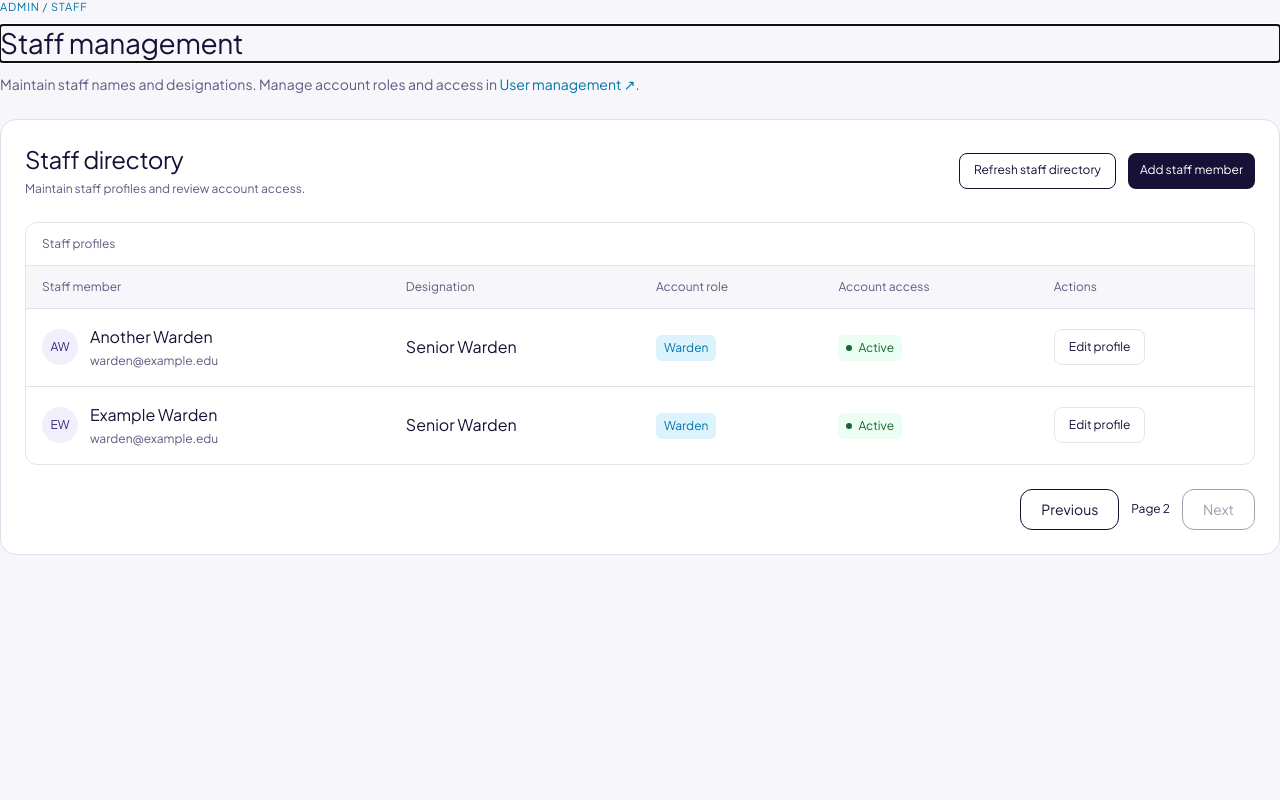
Test case: edits the selected directory row and keeps pagination and other rows
Step 1. Click the button "Edit profile" in the row of "Example Warden" → (1100, 425), box [1054, 407, 1145, 443]
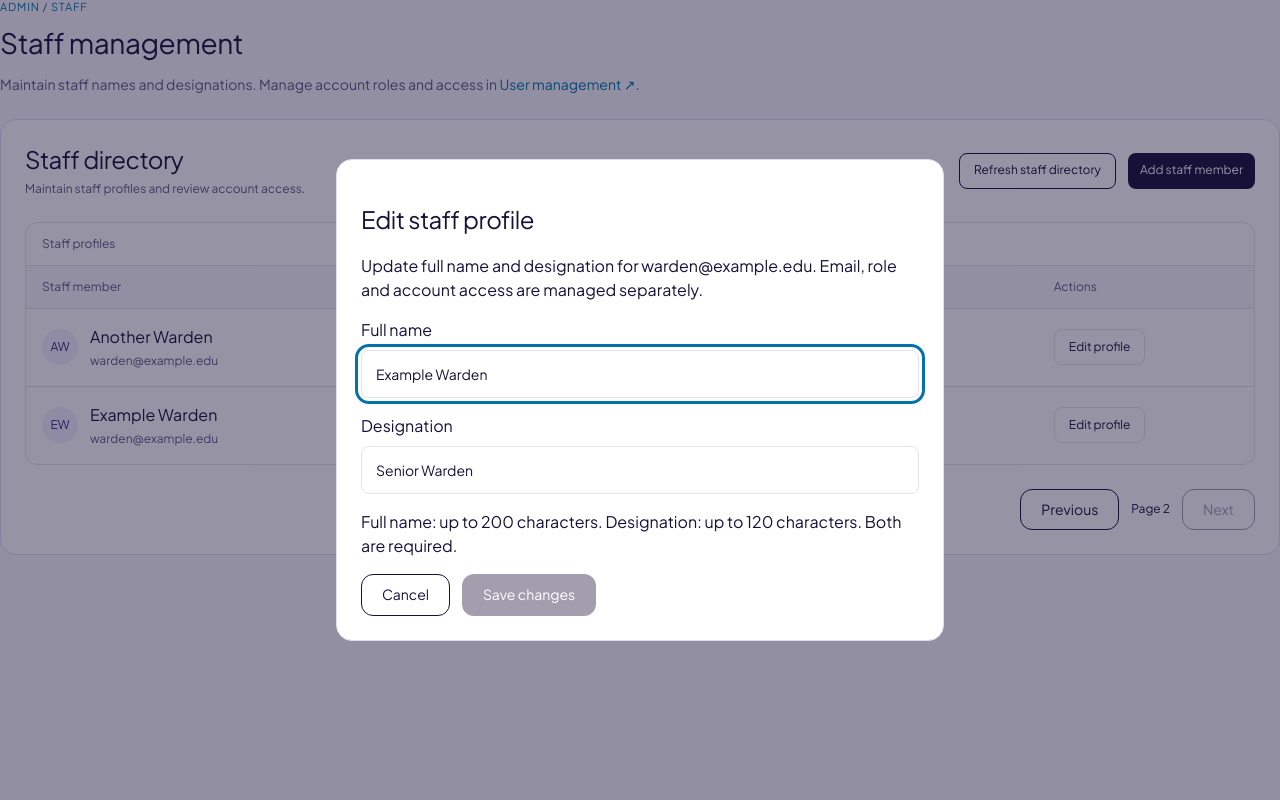
Expected: the field labelled "Full name" holds "Example Warden"
Step 2. Replace the text in the field labelled "Full name" with "Updated Warden" → (640, 374), box [361, 350, 919, 398]
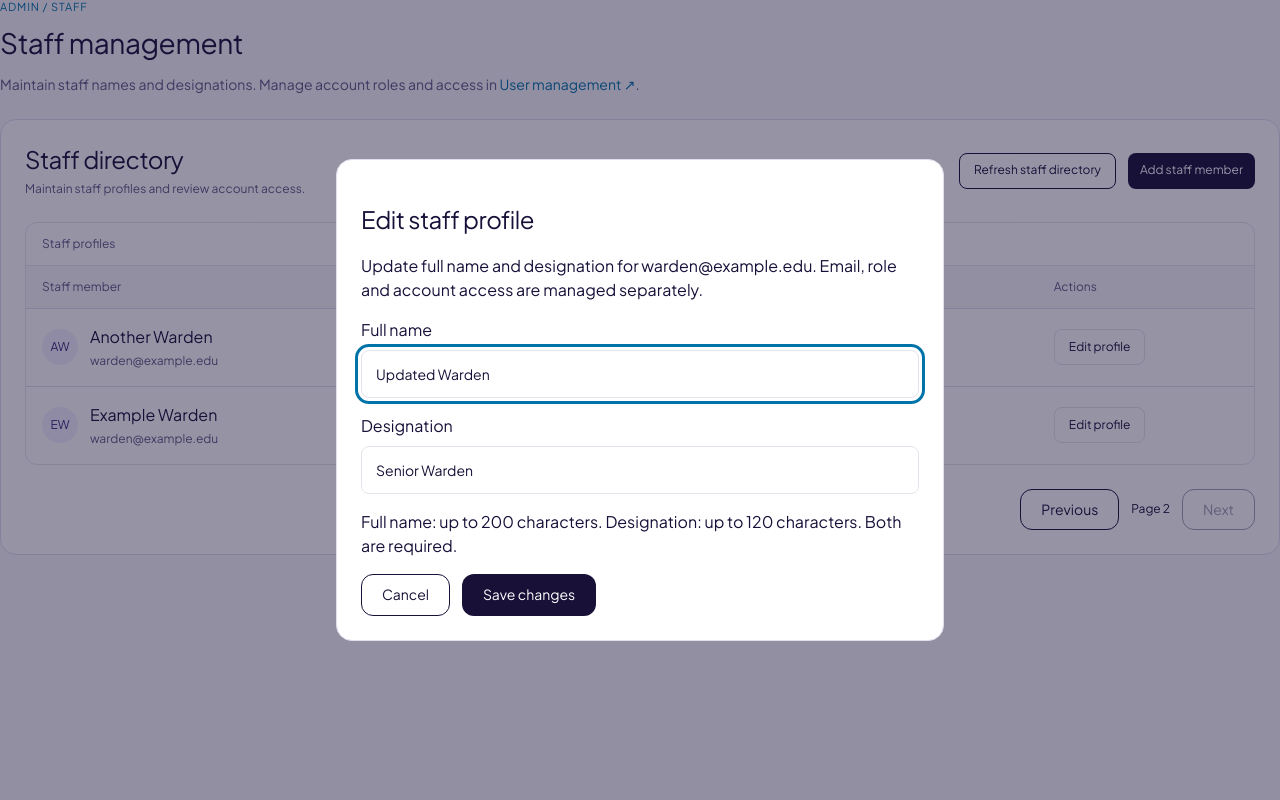
Step 3. Click the button "Save changes" → (529, 595), box [462, 574, 596, 616]
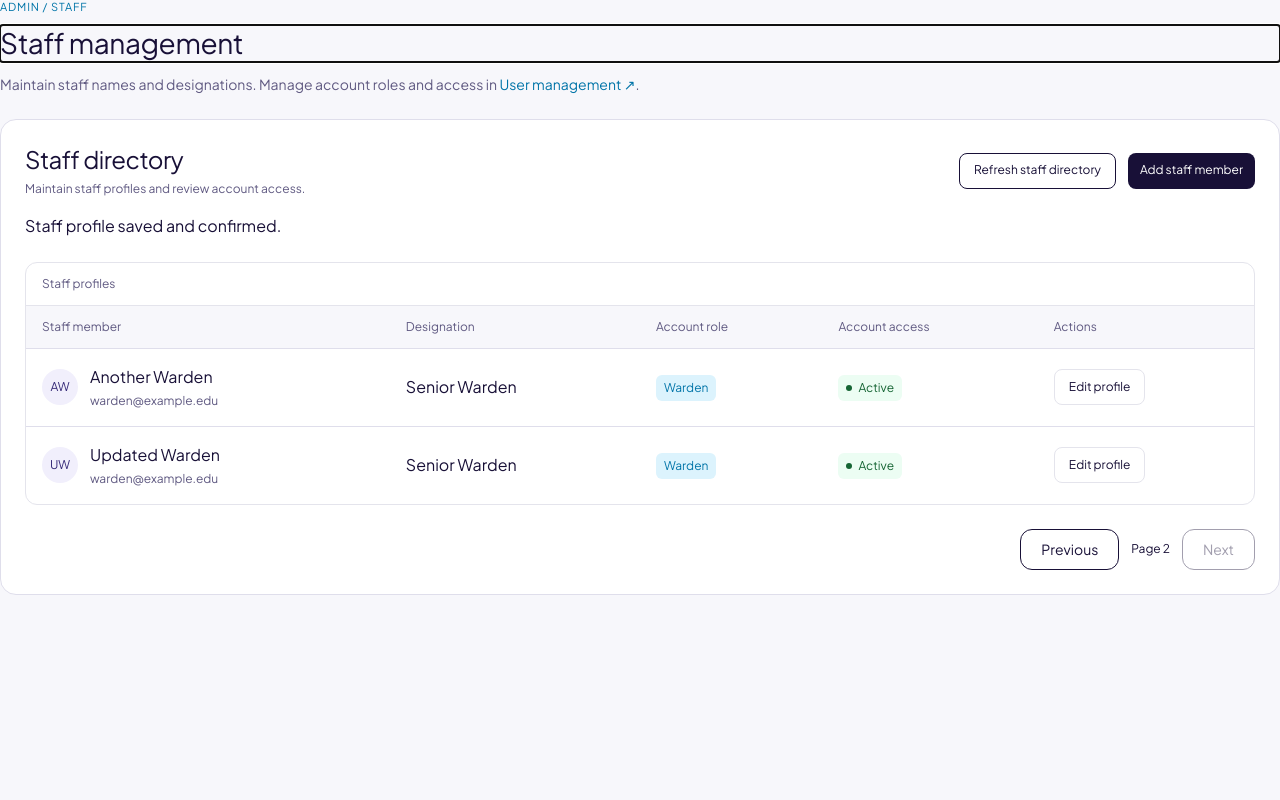
Expected: the link "Another Warden" is shown, [90, 366, 213, 387]
Expected: the text "Staff profile saved and confirmed." is shown, [25, 215, 281, 236]
Expected: the dialog is gone
